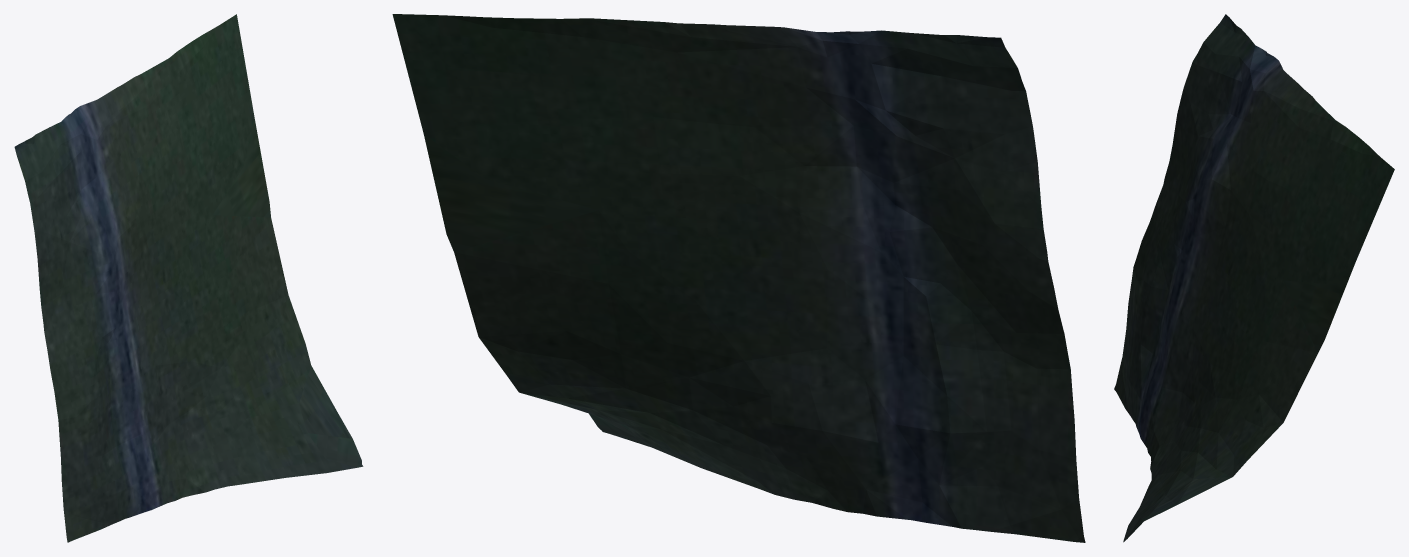
File: tile_5_31_24_tex.obj
The picture shows the model from 3 angles, left to right: view 1: azimuth 30°, elevation 25°; view 2: azimuth 150°, elevation 25°; view 3: azimuth 270°, elevation 25°; orthographic projection. The views are drawn at different scales.
Parts seen in each view (by area): view 1: obj_0; view 2: obj_0; view 3: obj_0.
Part boxes in pixels (left/top/right/bottom): obj_0: left=14, top=14, right=363, bottom=542; obj_0: left=392, top=14, right=1085, bottom=542; obj_0: left=1114, top=14, right=1394, bottom=542.
Size of the model in its own units: 5 by 5.64 by 3.82.
1 material, 1 textured.
